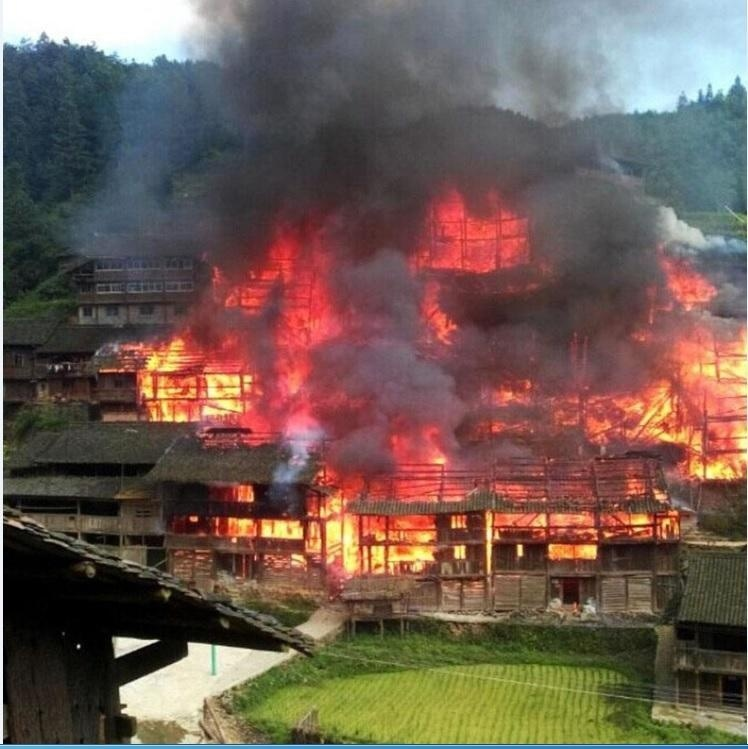fire: (417, 193, 533, 275)
